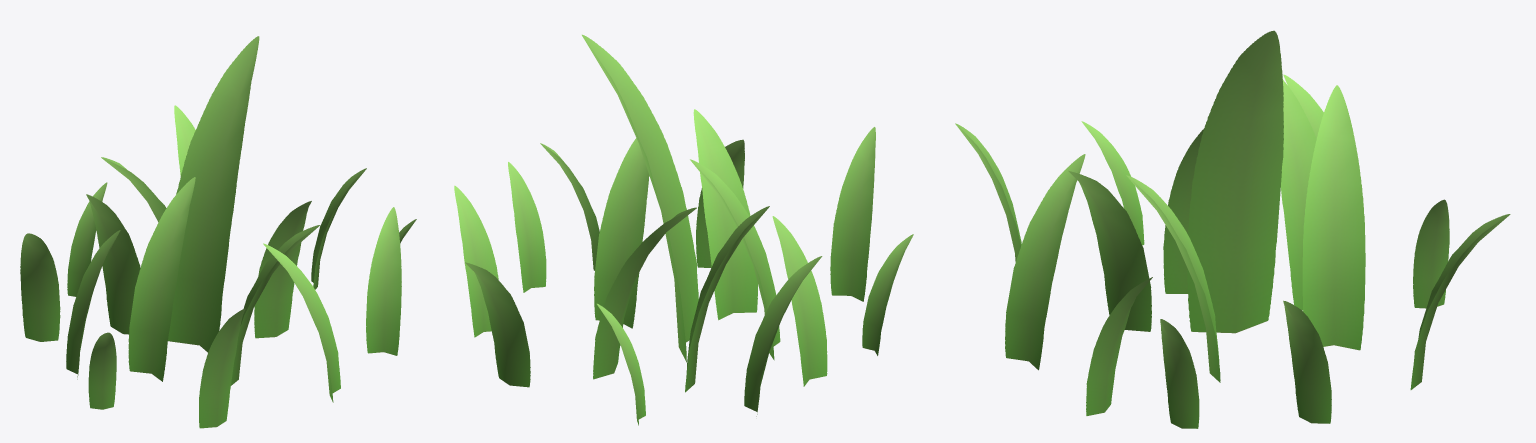
The model's file is SM_Grass03.fbx.
The picture shows the model from 3 angles, left to right: view 1: azimuth 30°, elevation 25°; view 2: azimuth 150°, elevation 25°; view 3: azimuth 270°, elevation 25°; orthographic projection. The views are drawn at different scales.
Parts seen in each view (by area): view 1: GrassPatch Main.003; view 2: GrassPatch Main.003; view 3: GrassPatch Main.003.
Boxes of the visible parts, bbox=[...] form: GrassPatch Main.003: bbox=[20, 36, 416, 428]; GrassPatch Main.003: bbox=[454, 34, 913, 425]; GrassPatch Main.003: bbox=[955, 30, 1510, 428].
Size of the model in its own units: 1.35 by 1.55 by 1.1.
